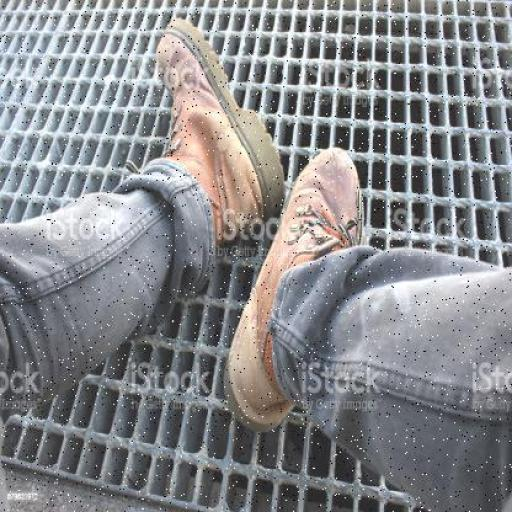safety_shoe: (238, 154, 360, 426), (156, 19, 277, 225)
